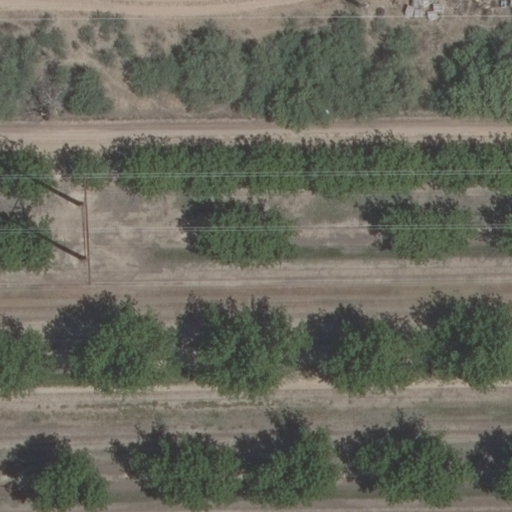TT: (16, 173, 87, 261)
